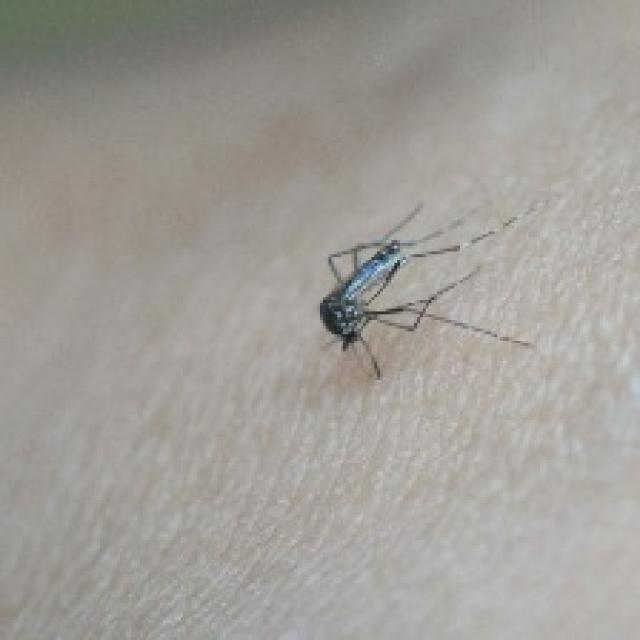aedes: (314, 197, 534, 380)
